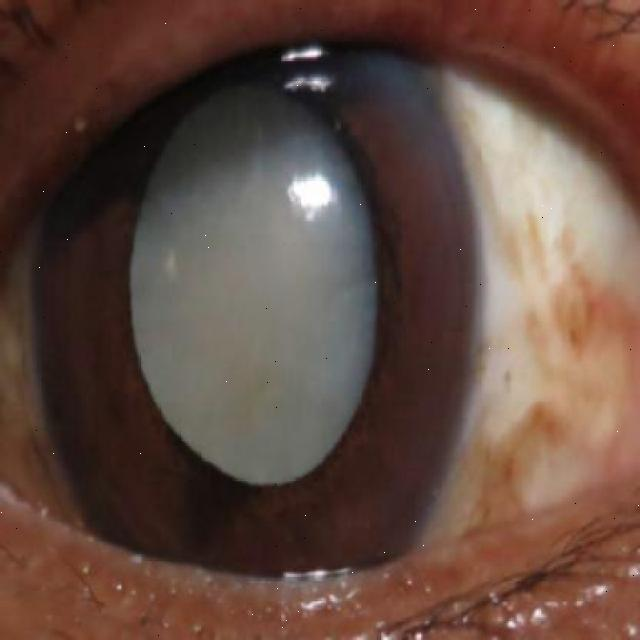Cataract: (35, 0, 462, 599)
